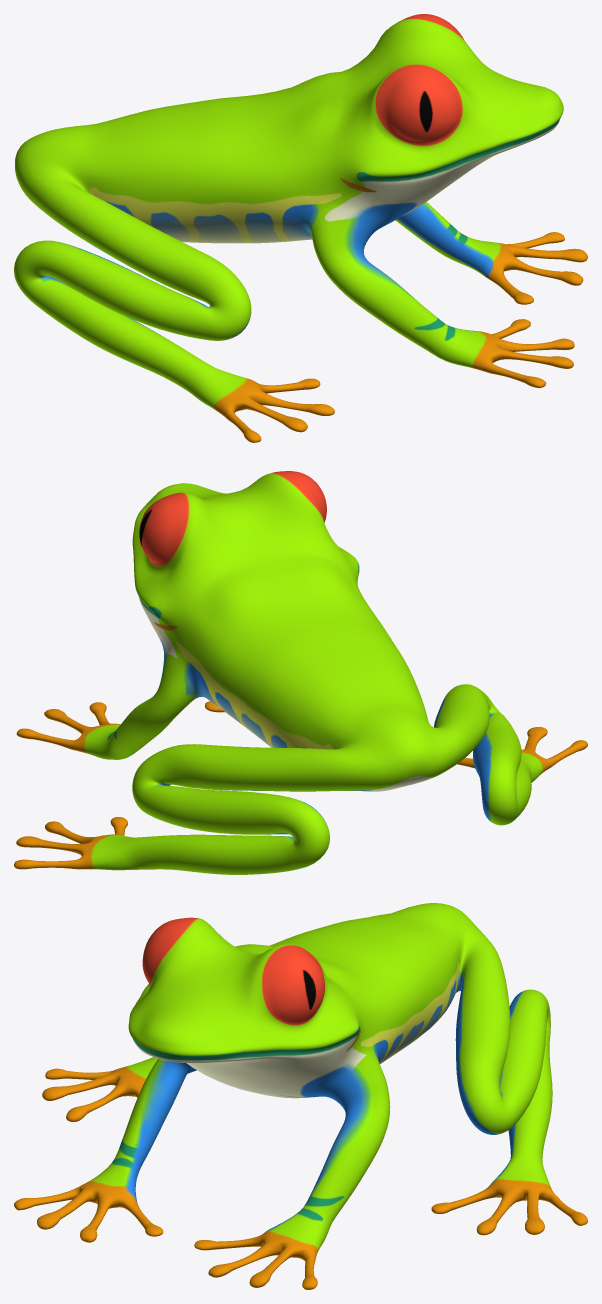
File: frog.glb
The picture shows the model from 3 angles, top to bottom: view 1: azimuth 30°, elevation 25°; view 2: azimuth 150°, elevation 25°; view 3: azimuth 270°, elevation 25°; orthographic projection.
Visible parts, largest first — view 1: node_id30; view 2: node_id30; view 3: node_id30.
Boxes of the visible parts, bbox=[...] form: node_id30: bbox=[14, 14, 587, 442]; node_id30: bbox=[14, 471, 587, 874]; node_id30: bbox=[14, 903, 587, 1289].
Size of the model in its own units: 0.4792 by 0.2377 by 0.4554.
Materials: 1 (1 with a texture image).
